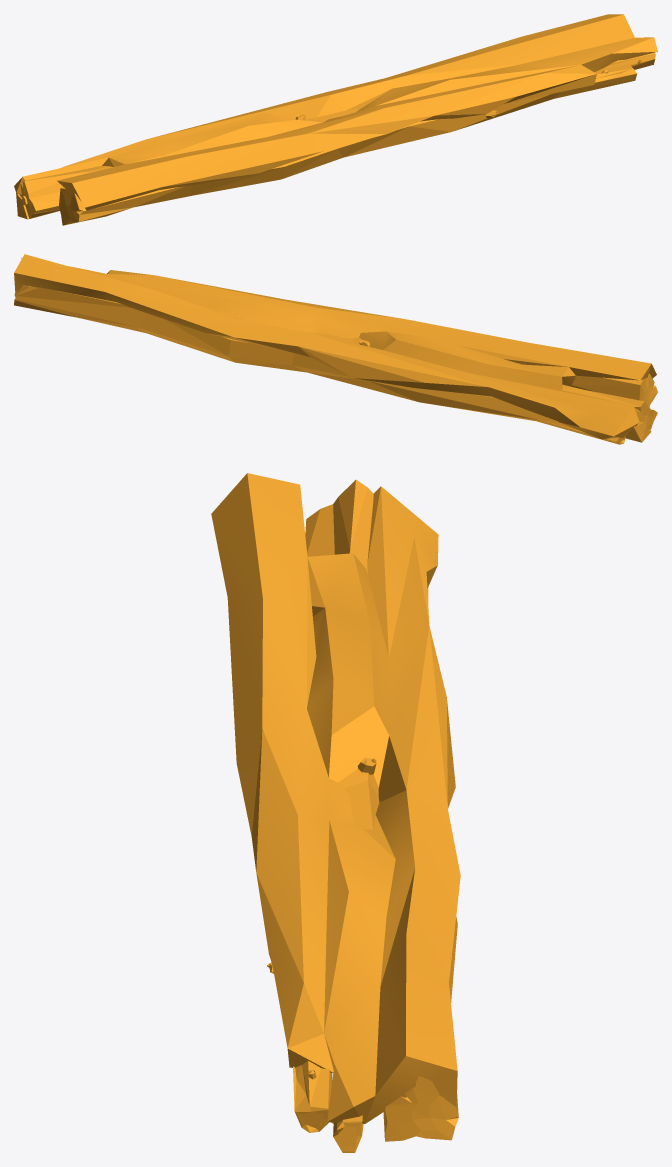
Rendered from SM_Tree_Spruce_Log_Pile_A_Snow.fbx.
The picture shows the model from 3 angles, top to bottom: view 1: azimuth 30°, elevation 25°; view 2: azimuth 150°, elevation 25°; view 3: azimuth 270°, elevation 25°; orthographic projection. The views are drawn at different scales.
Visible parts, largest first — view 1: tree-spruce-log-pile-a-snow; view 2: tree-spruce-log-pile-a-snow; view 3: tree-spruce-log-pile-a-snow.
Part boxes in pixels (bbox=[...]): tree-spruce-log-pile-a-snow: bbox=[14, 14, 657, 225]; tree-spruce-log-pile-a-snow: bbox=[14, 254, 657, 444]; tree-spruce-log-pile-a-snow: bbox=[211, 473, 460, 1152].
Size of the model in its own units: 8.18 by 0.6943 by 1.41.
